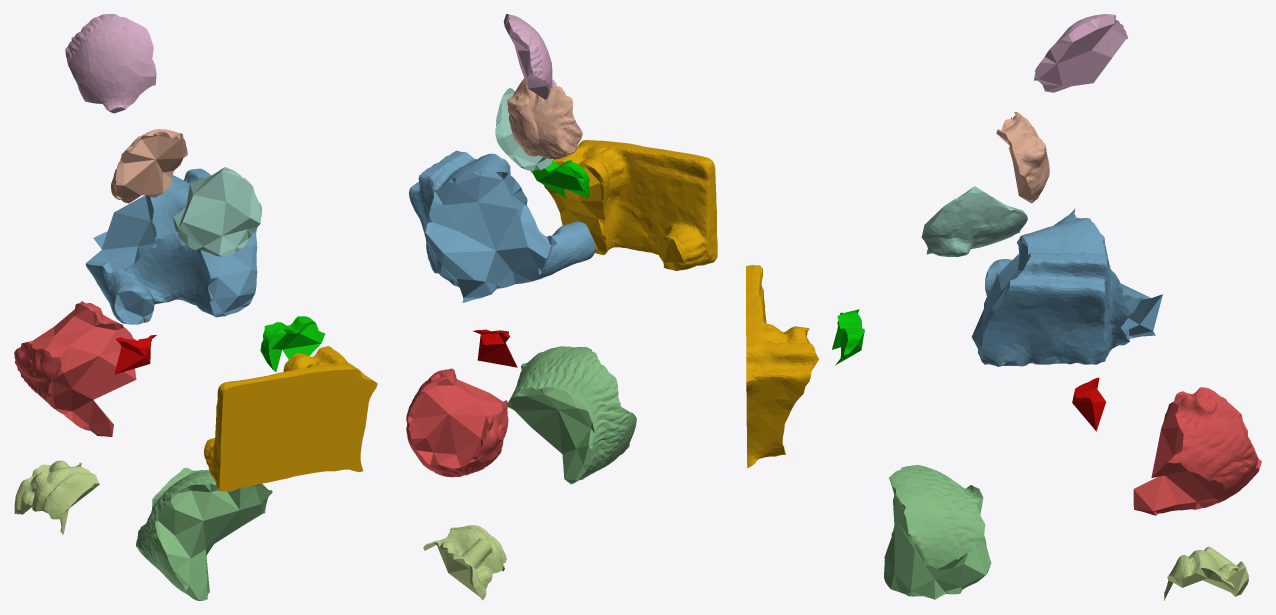
Rendered from mode_16_10pcs_transformed.glb.
The picture shows the model from 3 angles, left to right: view 1: azimuth 30°, elevation 25°; view 2: azimuth 150°, elevation 25°; view 3: azimuth 270°, elevation 25°; orthographic projection. The views are drawn at different scales.
Visible parts, largest first — view 1: piece_0.obj, piece_2.obj, piece_3.obj, piece_1.obj, piece_6.obj, piece_4.obj, piece_7.obj, piece_5.obj, piece_8.obj, piece_9.obj; view 2: piece_2.obj, piece_0.obj, piece_3.obj, piece_1.obj, piece_7.obj, piece_5.obj, piece_6.obj, piece_4.obj, piece_8.obj, piece_9.obj; view 3: piece_2.obj, piece_3.obj, piece_1.obj, piece_0.obj, piece_4.obj, piece_6.obj, piece_7.obj, piece_5.obj, piece_8.obj, piece_9.obj.
Boxes of the visible parts, x1,y1,x2,y2 form: piece_0.obj: [204, 346, 377, 491]; piece_2.obj: [85, 168, 257, 324]; piece_3.obj: [136, 468, 272, 600]; piece_1.obj: [14, 301, 136, 436]; piece_6.obj: [65, 14, 156, 113]; piece_4.obj: [173, 167, 261, 256]; piece_7.obj: [111, 129, 187, 203]; piece_5.obj: [14, 460, 99, 534]; piece_8.obj: [260, 316, 325, 371]; piece_9.obj: [114, 335, 156, 374]; piece_2.obj: [409, 150, 596, 302]; piece_0.obj: [544, 140, 717, 270]; piece_3.obj: [507, 346, 636, 484]; piece_1.obj: [406, 368, 508, 477]; piece_7.obj: [507, 78, 582, 159]; piece_5.obj: [423, 525, 506, 600]; piece_6.obj: [503, 14, 556, 99]; piece_4.obj: [495, 88, 551, 171]; piece_8.obj: [530, 160, 589, 198]; piece_9.obj: [473, 329, 517, 367]; piece_2.obj: [972, 208, 1162, 366]; piece_3.obj: [884, 465, 991, 599]; piece_1.obj: [1133, 387, 1261, 515]; piece_0.obj: [746, 265, 818, 468]; piece_4.obj: [921, 186, 1027, 256]; piece_6.obj: [1034, 14, 1128, 92]; piece_7.obj: [996, 112, 1049, 203]; piece_5.obj: [1164, 546, 1248, 600]; piece_8.obj: [832, 309, 864, 365]; piece_9.obj: [1072, 377, 1105, 431].
Size of the model in its own units: 0.6128 by 1.99 by 1.56.
